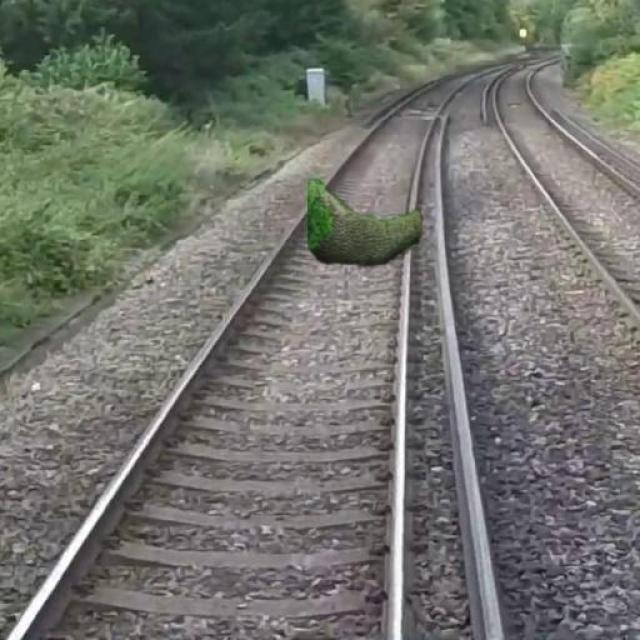Branches: (301, 178, 440, 265)
